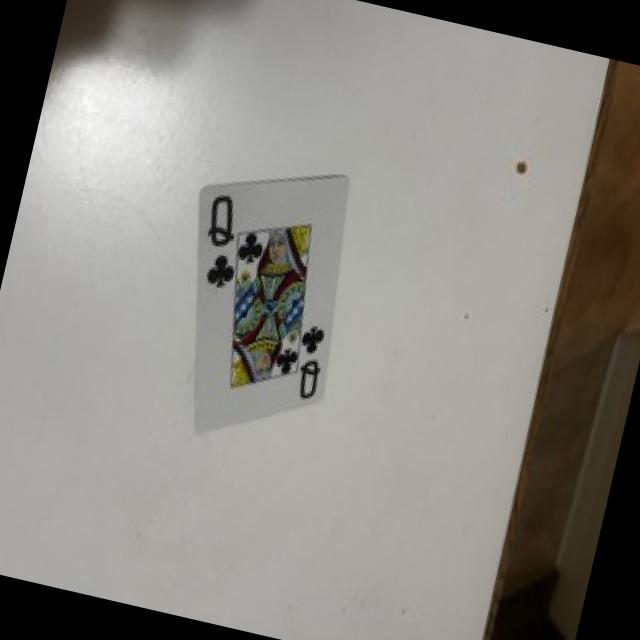Queen of clubs: (195, 175, 347, 431)
